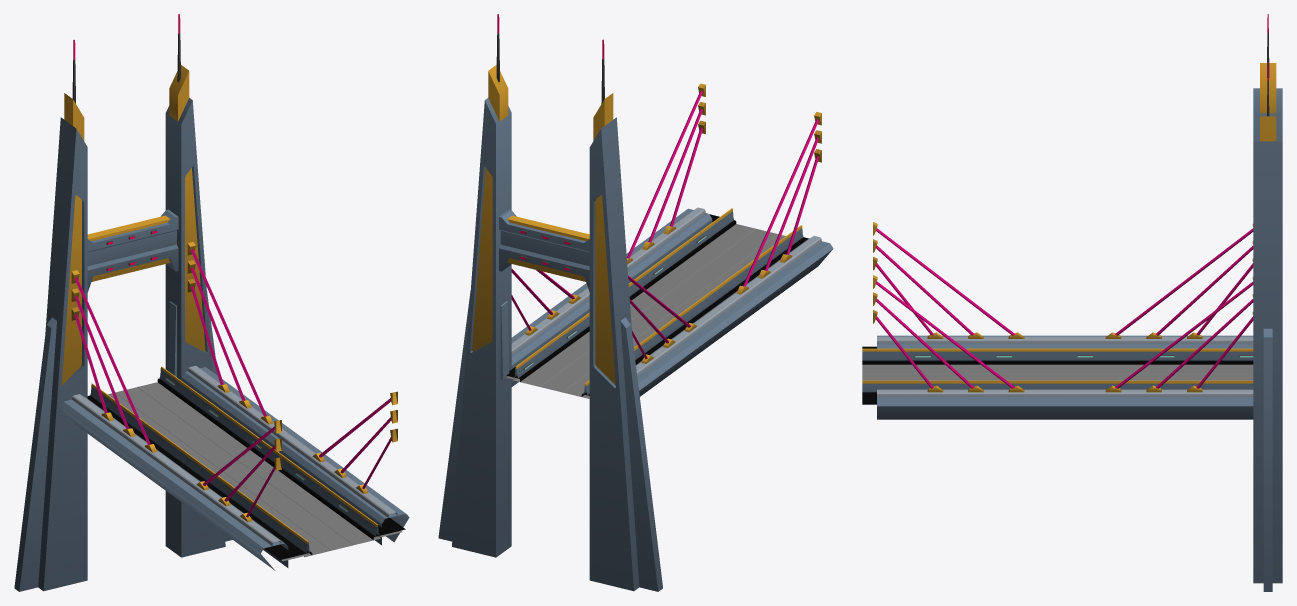
Rendered from Puente_Tramo.FBX.
The picture shows the model from 3 angles, left to right: view 1: azimuth 30°, elevation 25°; view 2: azimuth 150°, elevation 25°; view 3: azimuth 270°, elevation 25°; orthographic projection. The views are drawn at different scales.
Visible parts, largest first — view 1: Puente_Tramo_Estructura, Puente_Tramo; view 2: Puente_Tramo_Estructura, Puente_Tramo; view 3: Puente_Tramo_Estructura, Puente_Tramo.
Boxes of the visible parts, box(x1,y1,x2,y2) form: Puente_Tramo_Estructura: box(14, 14, 409, 591); Puente_Tramo: box(108, 382, 402, 561); Puente_Tramo_Estructura: box(438, 14, 833, 591); Puente_Tramo: box(506, 224, 785, 398); Puente_Tramo_Estructura: box(862, 14, 1282, 591); Puente_Tramo: box(862, 364, 1253, 404).
Bounding box in the file's own units: 2936 × 5181 × 6841.
